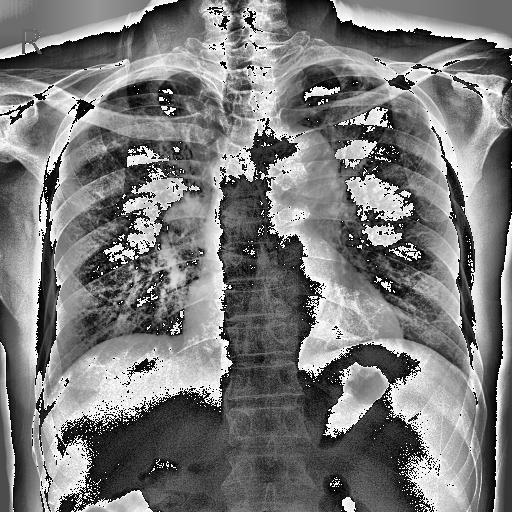0- Aortic enlargement: (250, 127, 342, 224), (255, 121, 344, 215), (258, 128, 338, 200)
11- Pleural thickening: (100, 66, 172, 101), (342, 56, 404, 93), (338, 57, 390, 83)
13- Pulmonary fibrosis: (160, 77, 192, 116), (118, 96, 152, 122)
3- Cardiomegaly: (183, 296, 402, 350)
